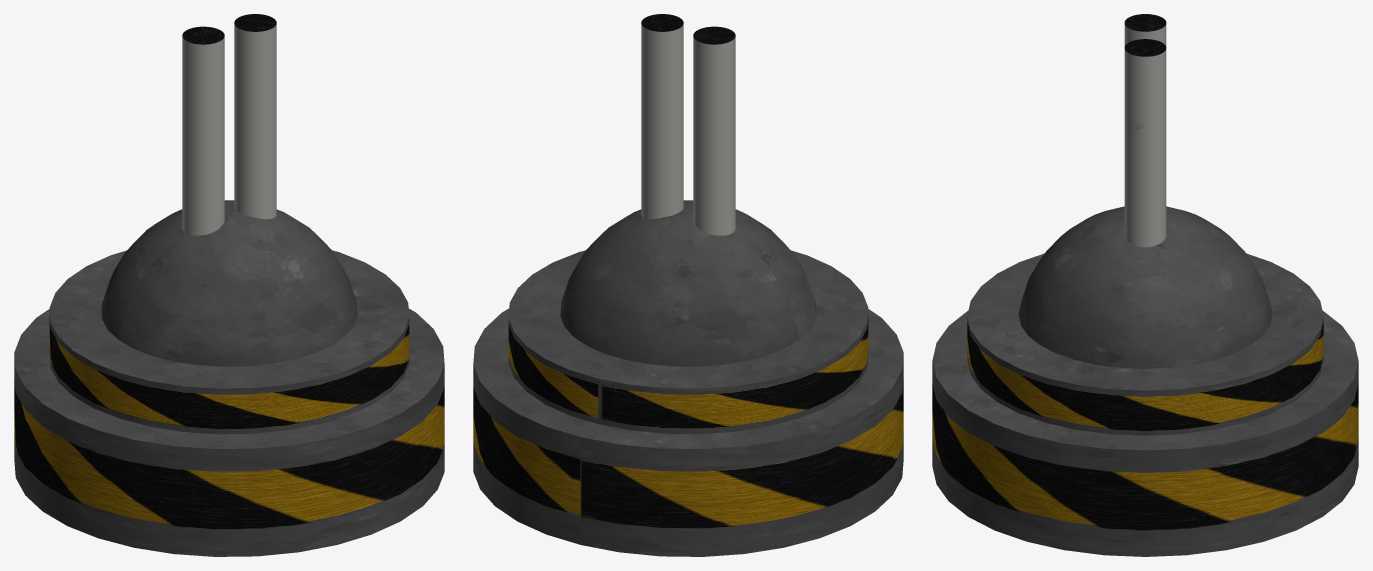
The model's file is Turret.fbx.
3 views of the same model, side by side, from view 1: azimuth 30°, elevation 25°; view 2: azimuth 150°, elevation 25°; view 3: azimuth 270°, elevation 25° (orthographic).
Parts seen in each view (by area): view 1: Cylinder, Sphere; view 2: Cylinder, Sphere; view 3: Cylinder, Sphere.
Part boxes in pixels (left/top/right/bottom): Cylinder: left=14, top=250, right=444, bottom=556; Sphere: left=101, top=14, right=357, bottom=366; Cylinder: left=473, top=250, right=903, bottom=556; Sphere: left=560, top=14, right=816, bottom=366; Cylinder: left=932, top=253, right=1358, bottom=556; Sphere: left=1018, top=14, right=1272, bottom=368.
Bounding box in the file's own units: 144 × 161 × 144.
